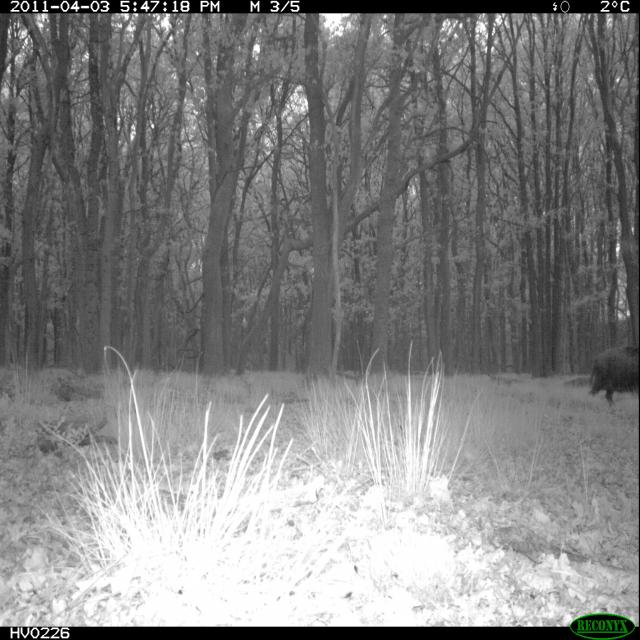boar: (553, 319, 640, 421)
